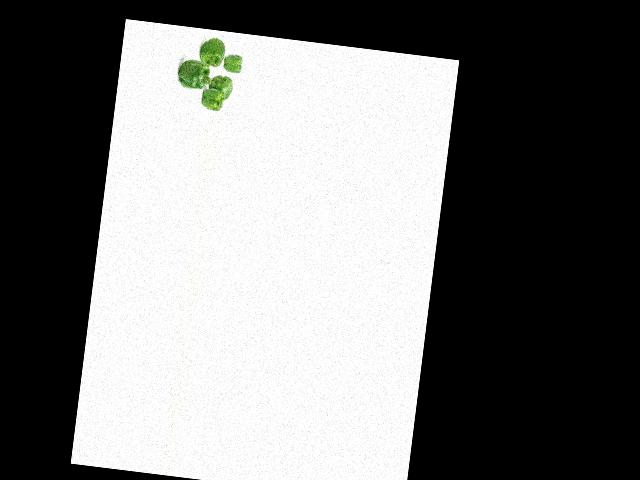bell_pepper: (197, 85, 224, 112)
